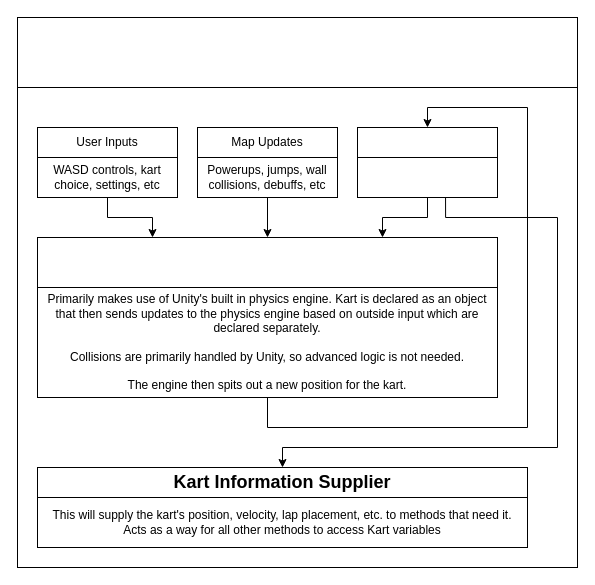
Some shapes in this 595 by 585 pixel diagram are drawn without their labels. Here are the shapes that lost their labels. From the top down, the box of each, then its label:
(16, 16, 578, 88): Kart Physics and Controls
(356, 126, 498, 158): Kart Positioning
(356, 156, 498, 198): Position, rotation, velocity of current kart
(36, 236, 498, 288): Kart Physics Engine
